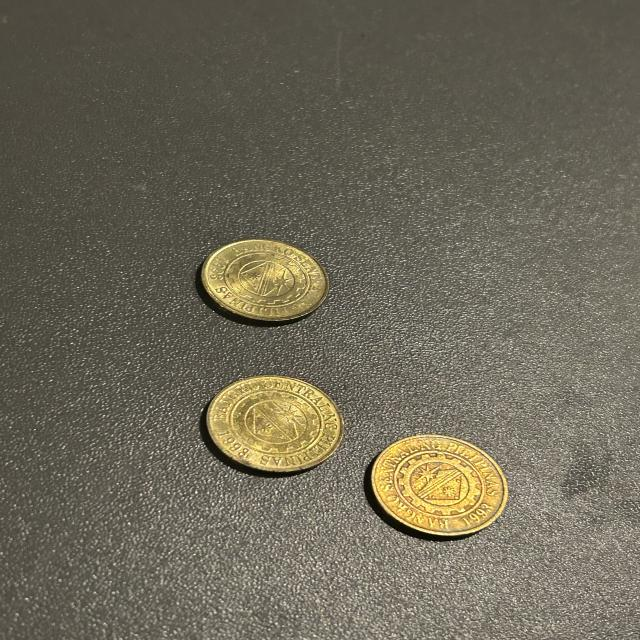25Cent_Old_Back: (372, 430, 512, 538), (200, 238, 328, 326)
